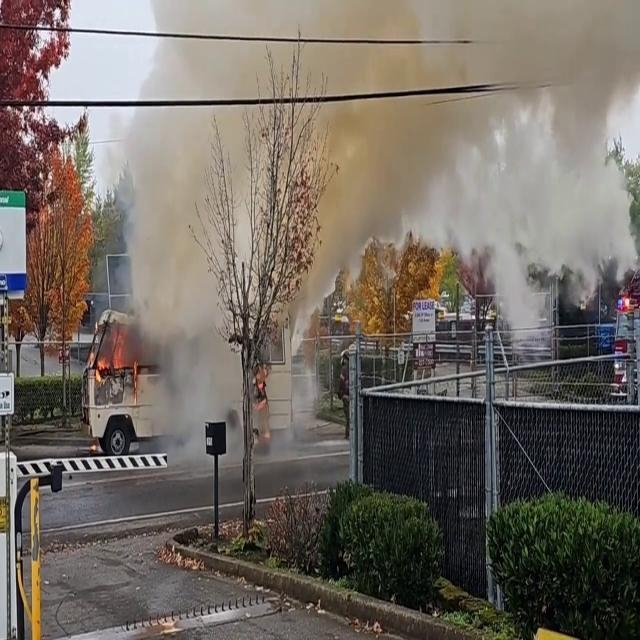Fire: (91, 318, 131, 386)
Smoke: (140, 0, 640, 383)
